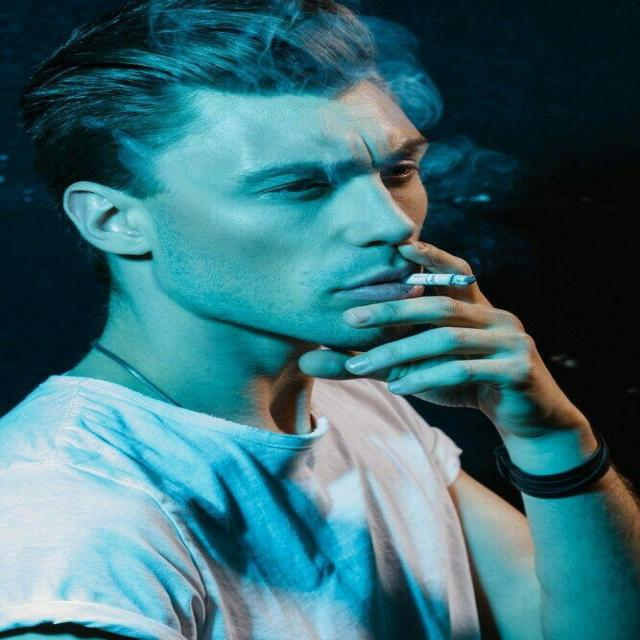cigarette: (370, 259, 530, 309)
